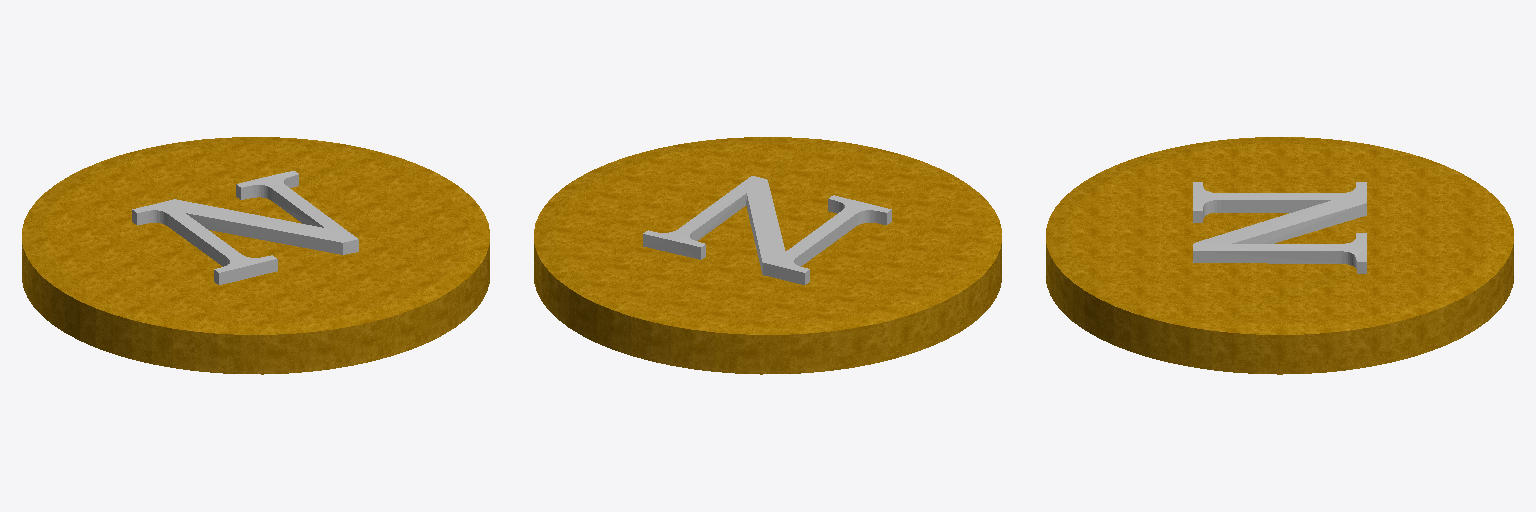
3 renders of one model, left to right at view 1: azimuth 30°, elevation 25°; view 2: azimuth 150°, elevation 25°; view 3: azimuth 270°, elevation 25°, orthographic.
Visible parts, largest first — view 1: _1, default; view 2: _1, default; view 3: _1, default.
Part boxes in pixels (bbox=[...]): _1: bbox=[22, 137, 489, 374]; default: bbox=[132, 171, 358, 284]; _1: bbox=[534, 137, 1001, 374]; default: bbox=[643, 176, 891, 284]; _1: bbox=[1046, 137, 1513, 374]; default: bbox=[1193, 182, 1366, 273].
Bounding box in the file's own units: 10 × 1.62 × 10.
2 materials, 1 textured.